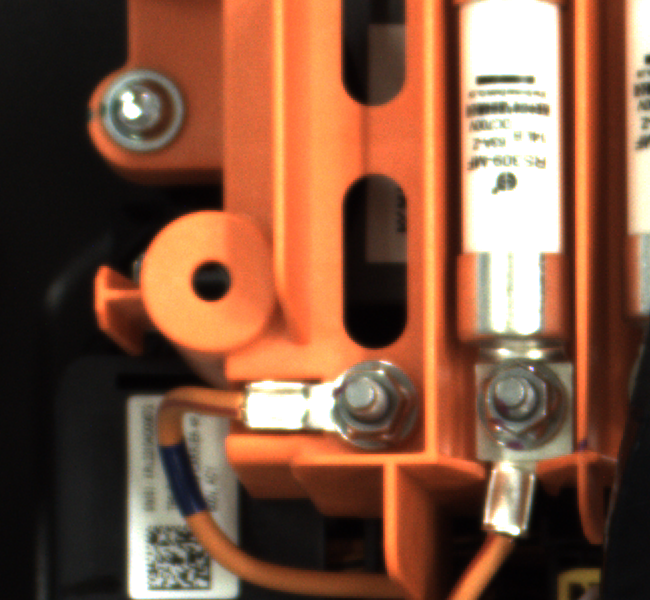screw_s: (459, 346, 568, 455), (318, 349, 407, 454)
